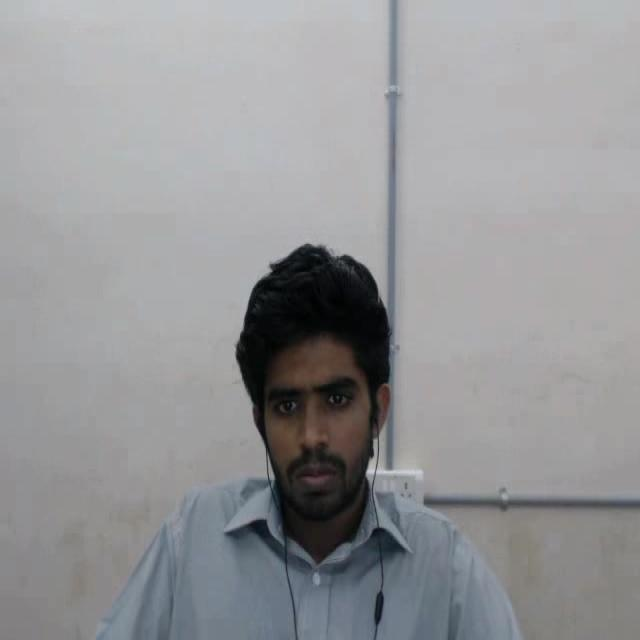Engaged: (212, 207, 410, 592)
